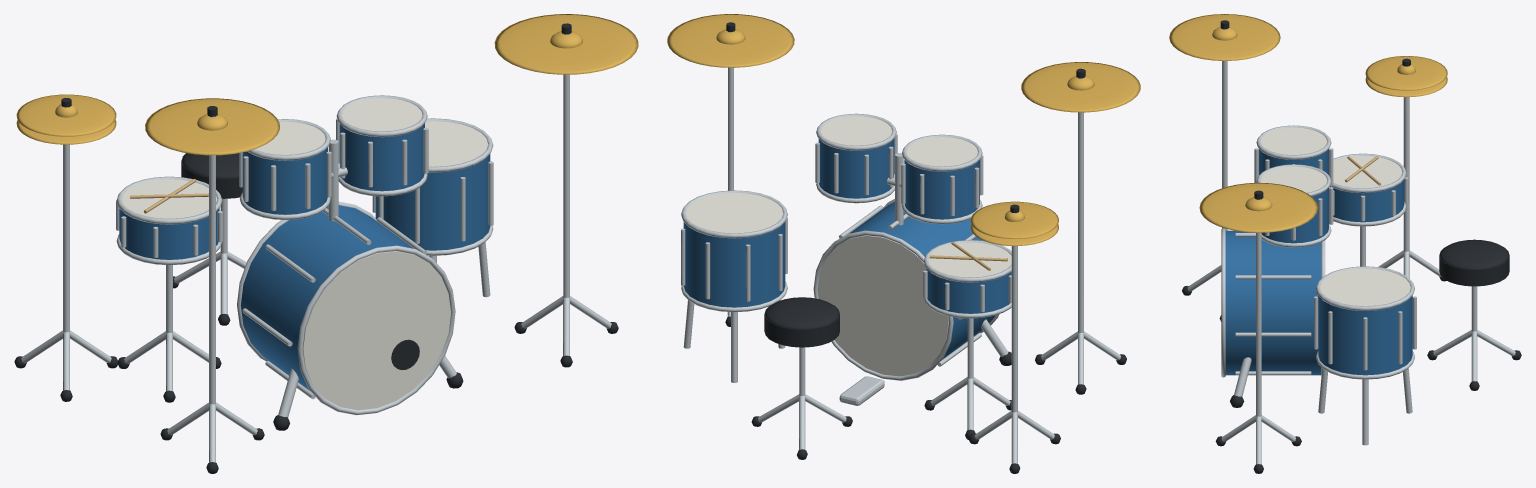
The model's file is instrument_drum_set.glb.
3 views of the same model, side by side, from view 1: azimuth 30°, elevation 25°; view 2: azimuth 150°, elevation 25°; view 3: azimuth 270°, elevation 25° (orthographic). The views are drawn at different scales.
Parts seen in each view (by area): view 1: Bass drum head, Bass drum shell, Ride cymbal disk, Floor tom shell, Crash cymbal disk, Left rack tom shell, Right rack tom shell, Hi hat disk.001, Snare shell, Bass drum rim, Snare head.001, Floor tom head.001 (+15 smaller); view 2: Bass drum head.001, Floor tom shell, Ride cymbal disk, Crash cymbal disk, Bass drum shell, Left rack tom shell, Floor tom head.001, Right rack tom shell, Hi hat disk.001, Snare shell, Snare head.001, Stool cushion (+16 smaller); view 3: Bass drum shell, Floor tom shell, Ride cymbal disk, Crash cymbal disk, Floor tom head.001, Hi hat disk.001, Snare shell, Snare head.001, Stool cushion, Left rack tom head.001, Drummer stool seat, Right rack tom head.001 (+15 smaller).
Part boxes in pixels (x1,y1,x2,y2): Bass drum head: (302,251,450,410); Bass drum shell: (240,205,413,391); Ride cymbal disk: (494,14,638,74); Floor tom shell: (375,154,490,250); Crash cymbal disk: (145,98,279,155); Left rack tom shell: (242,147,327,214); Right rack tom shell: (339,123,424,191); Hi hat disk.001: (16,94,116,136); Snare shell: (119,208,219,259); Bass drum rim: (297,245,455,415); Snare head.001: (121,179,217,218); Floor tom head.001: (425,121,488,166); Bass drum head.001: (817,235,948,376); Floor tom shell: (683,222,785,307); Ride cymbal disk: (667,14,794,67); Crash cymbal disk: (1021,62,1140,112); Bass drum shell: (850,202,995,359); Left rack tom shell: (904,160,979,219); Floor tom head.001: (685,192,783,233); Right rack tom shell: (818,139,894,198); Hi hat disk.001: (970,201,1058,238); Snare shell: (926,268,1011,313); Snare head.001: (928,242,1011,277); Stool cushion: (765,297,839,329); Bass drum shell: (1225,230,1321,375); Floor tom shell: (1318,296,1412,375); Ride cymbal disk: (1199,182,1317,232); Crash cymbal disk: (1169,14,1280,60); Floor tom head.001: (1320,268,1410,306); Hi hat disk.001: (1365,56,1447,90); Snare shell: (1330,180,1404,222); Snare head.001: (1333,155,1402,188); Stool cushion: (1440,239,1508,269); Left rack tom head.001: (1260,127,1327,154); Drummer stool seat: (1439,247,1509,286); Right rack tom head.001: (1260,166,1327,192).
Size of the model in its own units: 2.02 by 1.3 by 1.46.
